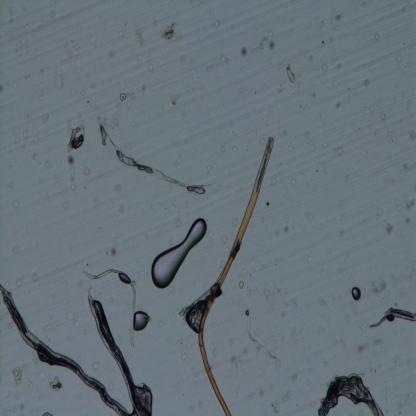Air bubble: (132, 310, 152, 332), (350, 285, 362, 300)
Background material: (152, 214, 206, 289), (240, 33, 275, 59), (68, 124, 86, 153), (160, 19, 180, 45), (10, 361, 27, 388), (119, 82, 138, 103), (368, 275, 386, 296), (329, 6, 344, 30), (284, 63, 298, 86), (50, 372, 64, 394), (384, 221, 396, 235), (406, 197, 416, 211), (67, 152, 76, 166)
Cellulose filter fibre: (0, 284, 128, 415), (86, 286, 154, 415), (97, 119, 206, 193), (82, 264, 137, 349), (316, 374, 384, 416), (241, 306, 279, 360), (368, 306, 416, 327)
Microfibre: (198, 137, 275, 415)
